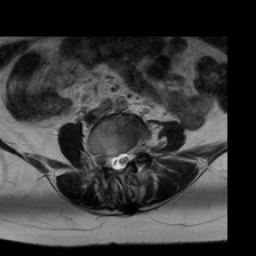CCS_normal: (114, 148, 123, 175)
LFS_normal: (131, 138, 139, 164)
LLS_normal: (123, 148, 130, 172)
RFS_normal: (100, 148, 108, 172)
RLS_normal: (108, 151, 115, 173)
